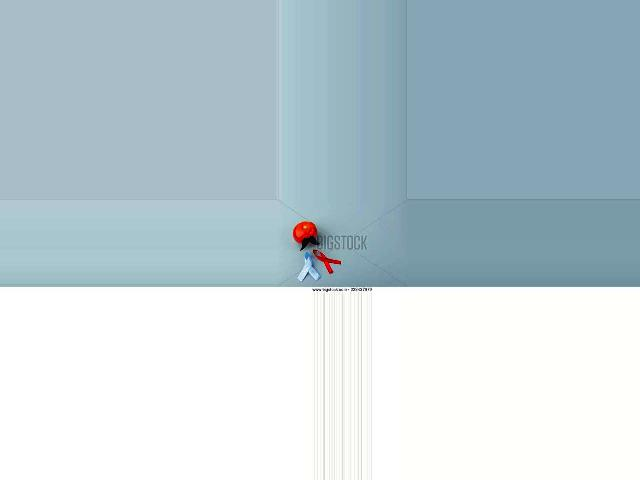tomato: (293, 221, 317, 244)
